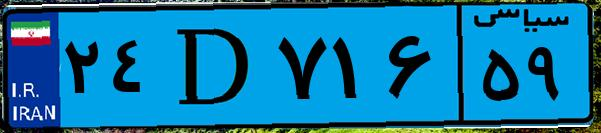1: (330, 28, 385, 110)
2: (57, 26, 110, 100)
4: (110, 28, 158, 98)
5: (475, 38, 525, 113)
6: (385, 28, 445, 110)
7: (270, 28, 330, 110)
9: (525, 38, 570, 115)
D: (158, 12, 270, 120)
